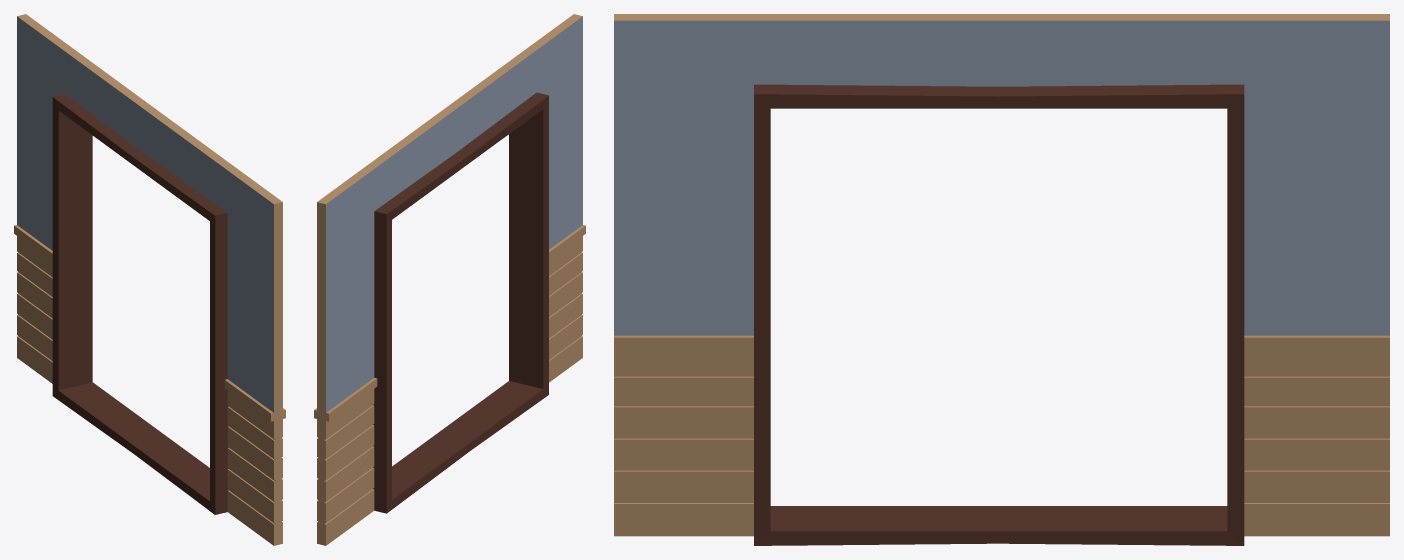
Rendered from Int_ Door B-col.glb.
3 renders of one model, left to right at view 1: azimuth 30°, elevation 25°; view 2: azimuth 150°, elevation 25°; view 3: azimuth 270°, elevation 25°, orthographic. The views are drawn at different scales.
Parts seen in each view (by area): view 1: Int_ Door B-col; view 2: Int_ Door B-col; view 3: Int_ Door B-col.
Part boxes in pixels (x1=…): Int_ Door B-col: x1=14, y1=14, x2=285, y2=545; Int_ Door B-col: x1=314, y1=14, x2=585, y2=545; Int_ Door B-col: x1=614, y1=14, x2=1389, y2=545.
Bounding box in the file's own units: 0.2339 × 2.2 × 3.
